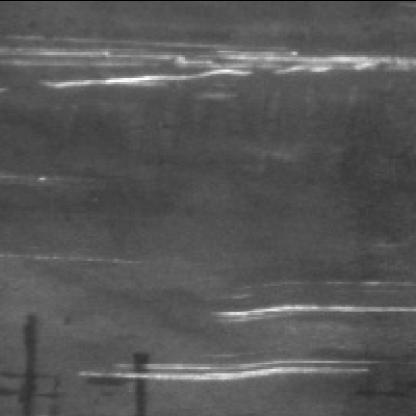inclusion: (0, 310, 68, 416), (114, 348, 156, 416)
scratches: (2, 40, 410, 96), (104, 351, 376, 389), (206, 283, 410, 331)
